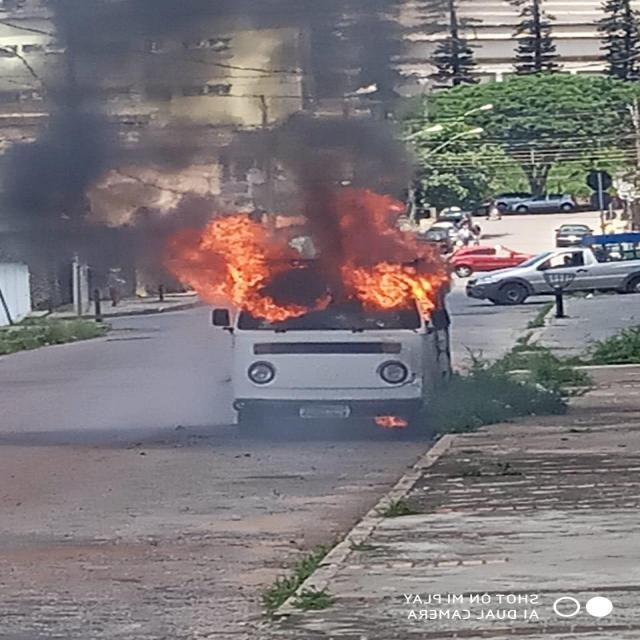fire: (159, 201, 467, 321)
